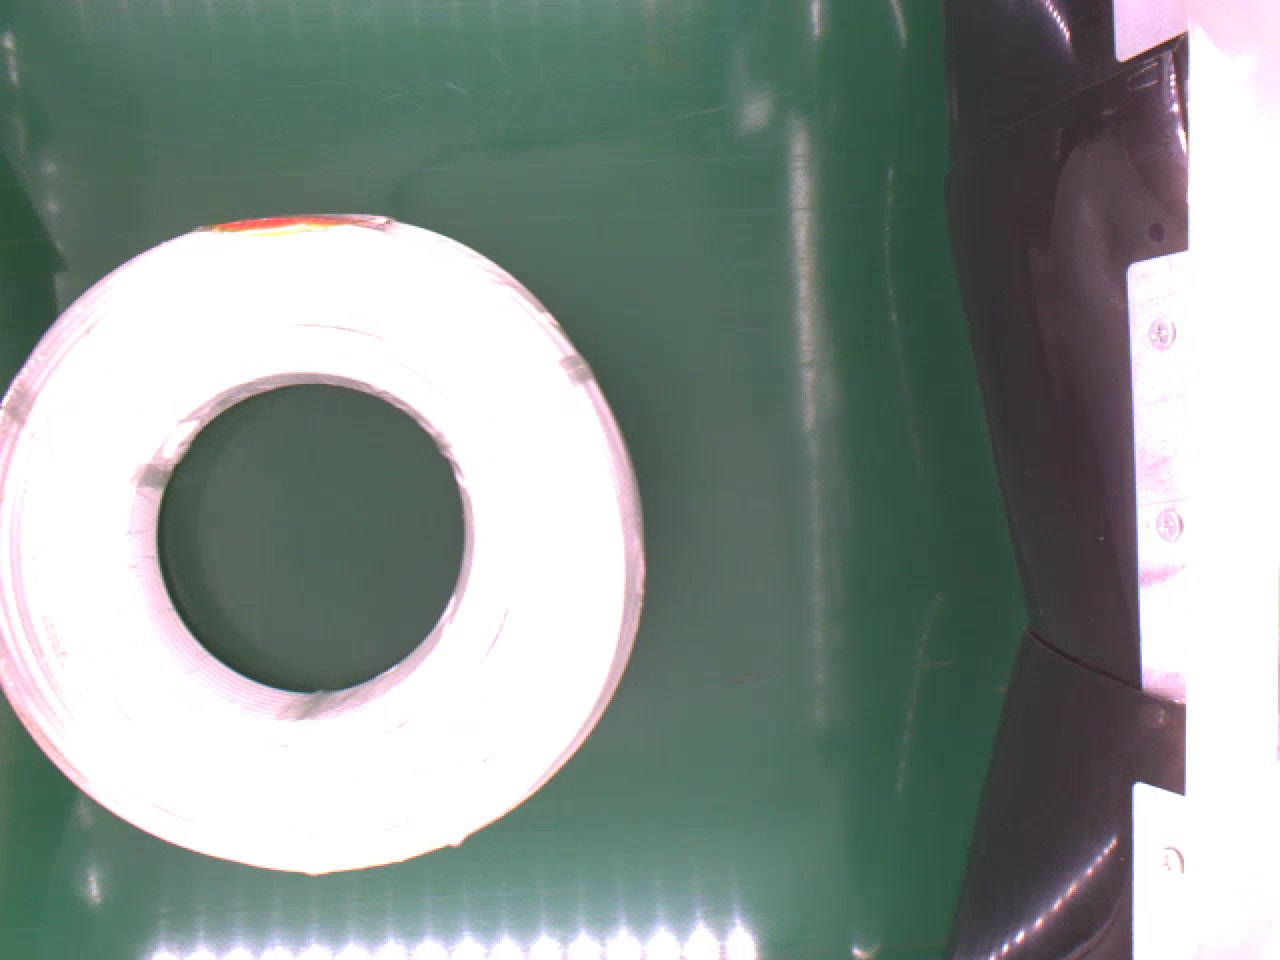white: (0, 207, 646, 876)
